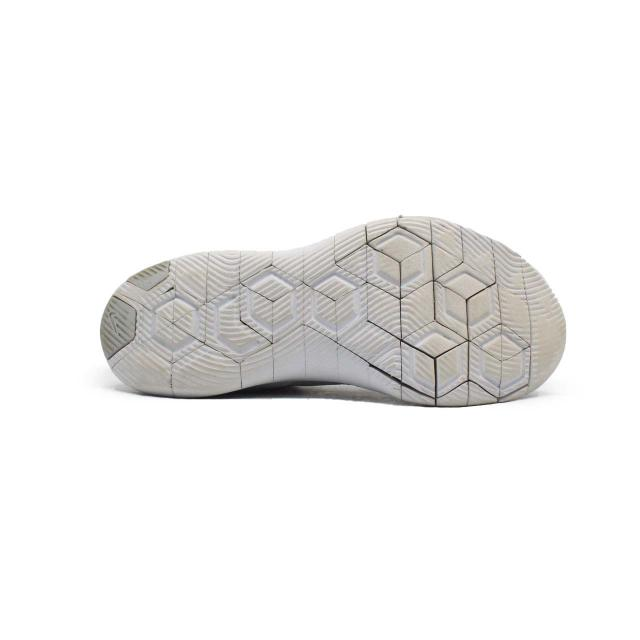outersole: (100, 217, 569, 407)
